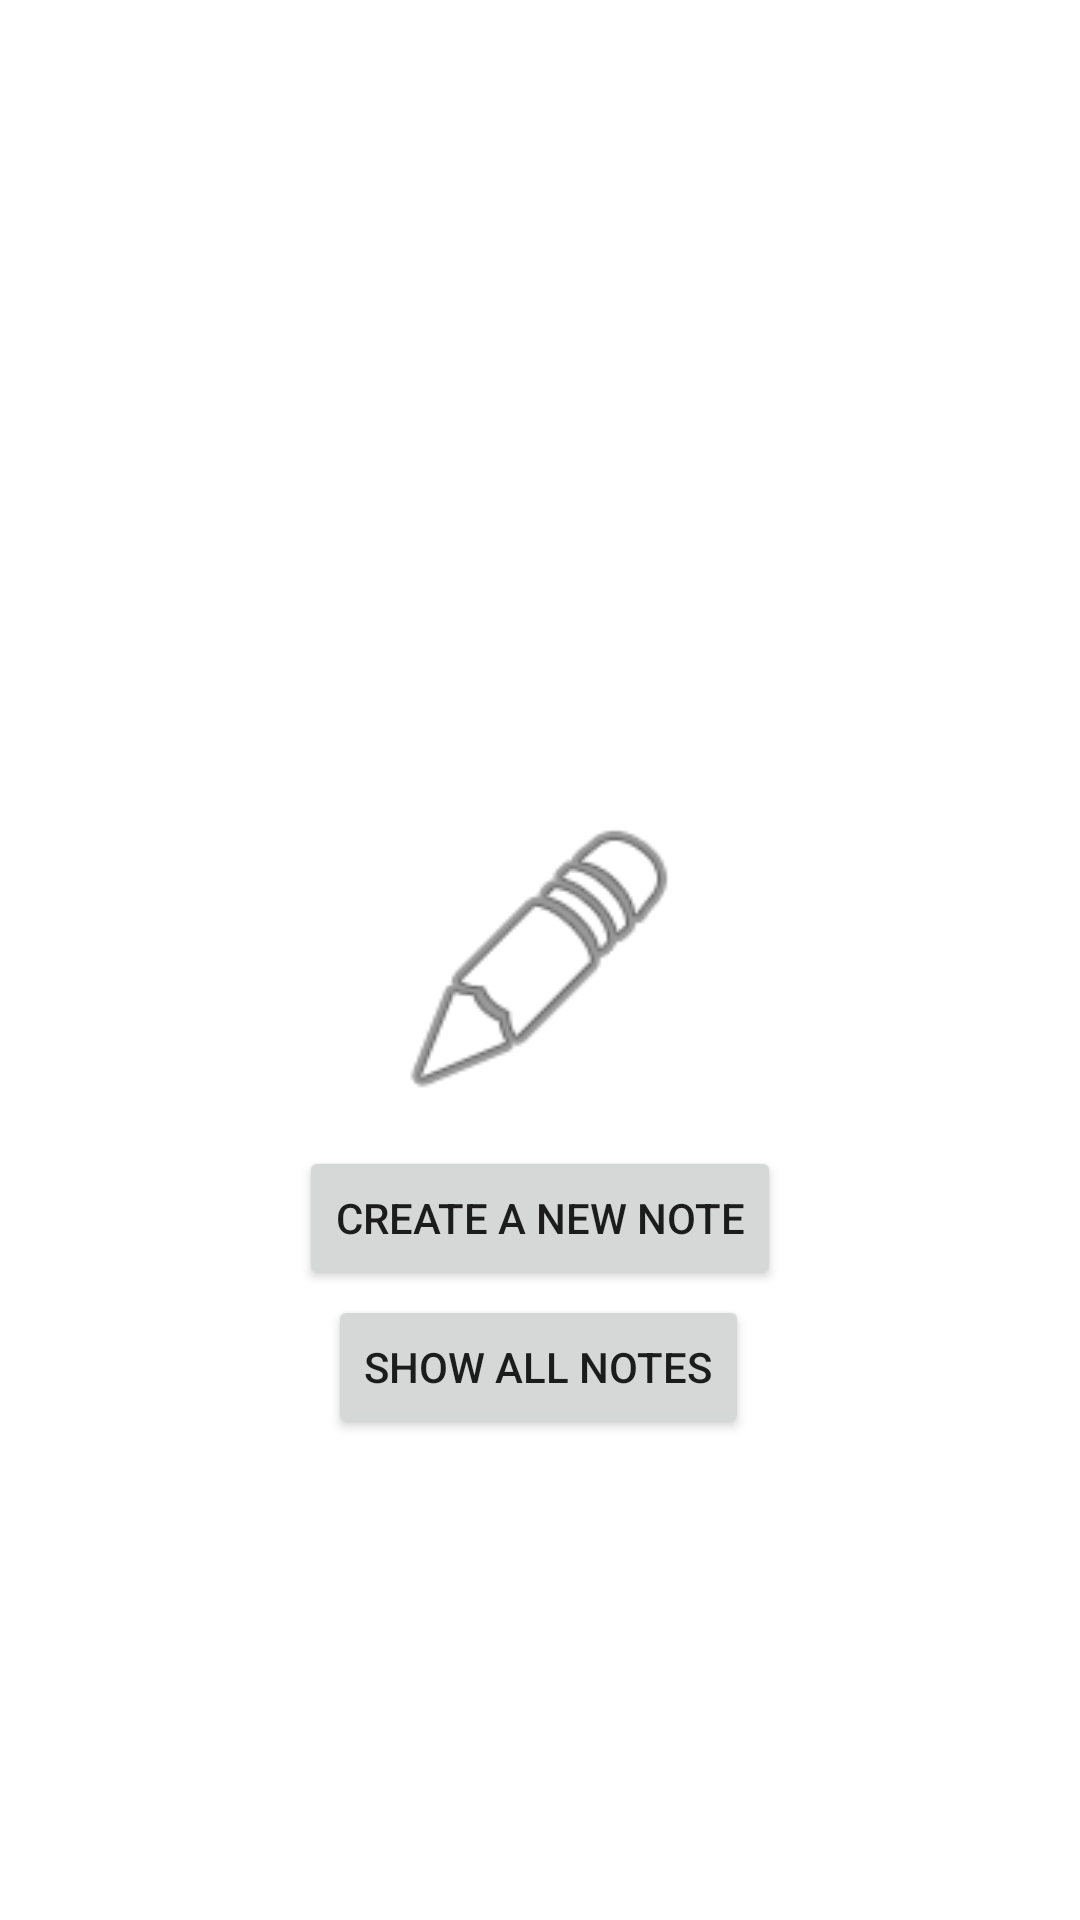

Icons on this 1080px x 1920px Android screen, each with its box as BBox(x1, y1, x2, y2):
edit: BBox(411, 830, 668, 1087)
